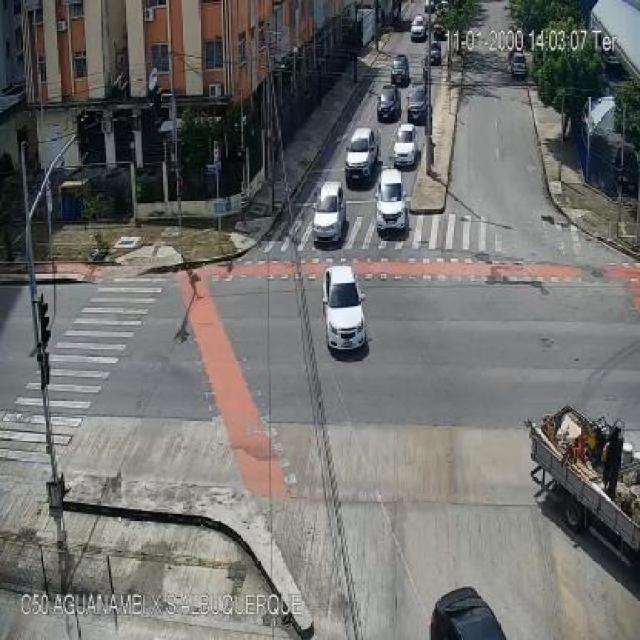Car: (418, 574, 503, 640), (310, 266, 368, 361), (312, 182, 346, 242), (375, 170, 406, 233), (345, 127, 379, 184), (392, 124, 417, 168), (377, 85, 401, 122), (407, 86, 428, 123), (390, 54, 409, 85), (510, 52, 528, 80), (411, 14, 426, 40), (429, 43, 441, 65)
Truck: (523, 399, 640, 587)
